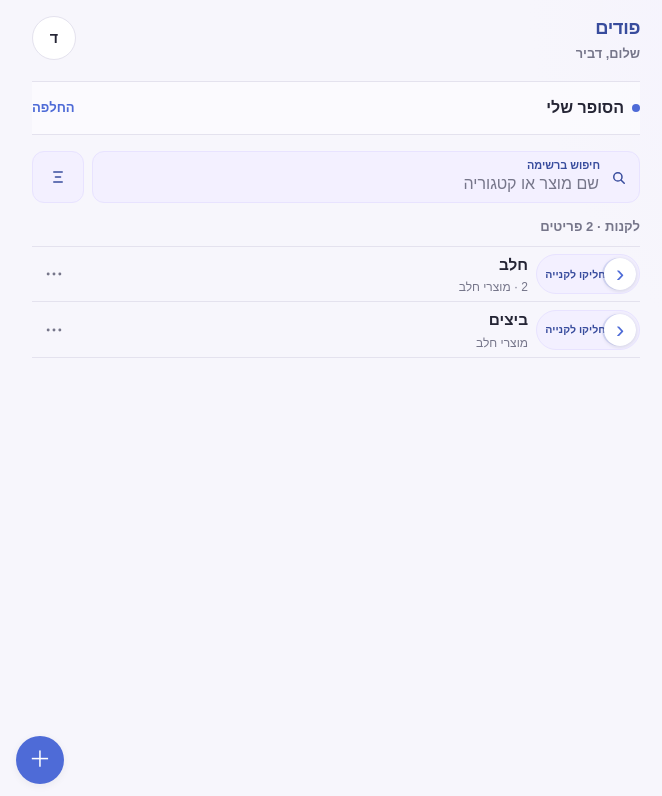
Test: shows a Hebrew error toast when restoring a completed item fails (finding #3)
This screenshot has width=662, height=796.
Click the button with aria-label "סמן את חלב כנקנה" at (588, 274), box [536,254,640,294]
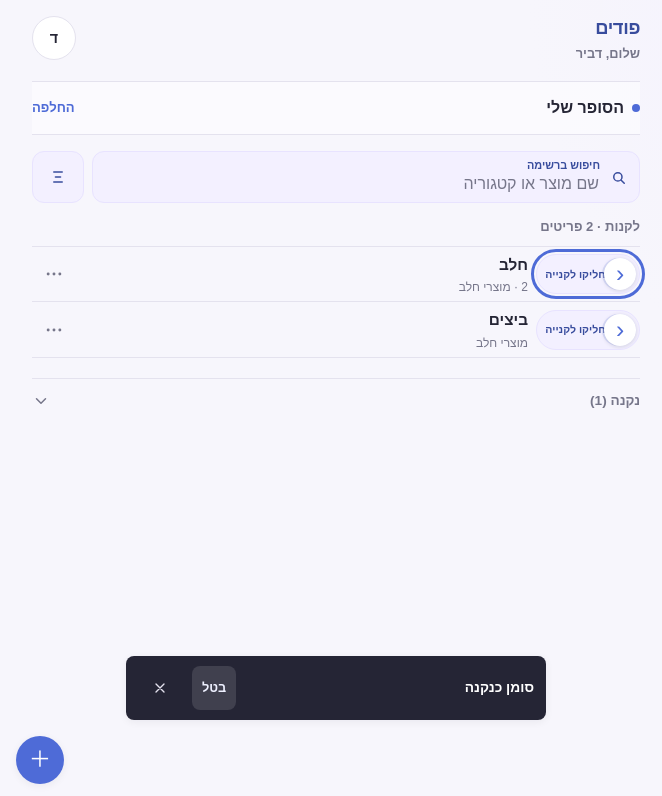
Expected: the text "סומן כנקנה" is shown, [465,680,534,695]
Click the button "נקנה (1)" at (621, 401), box [32,380,640,424]
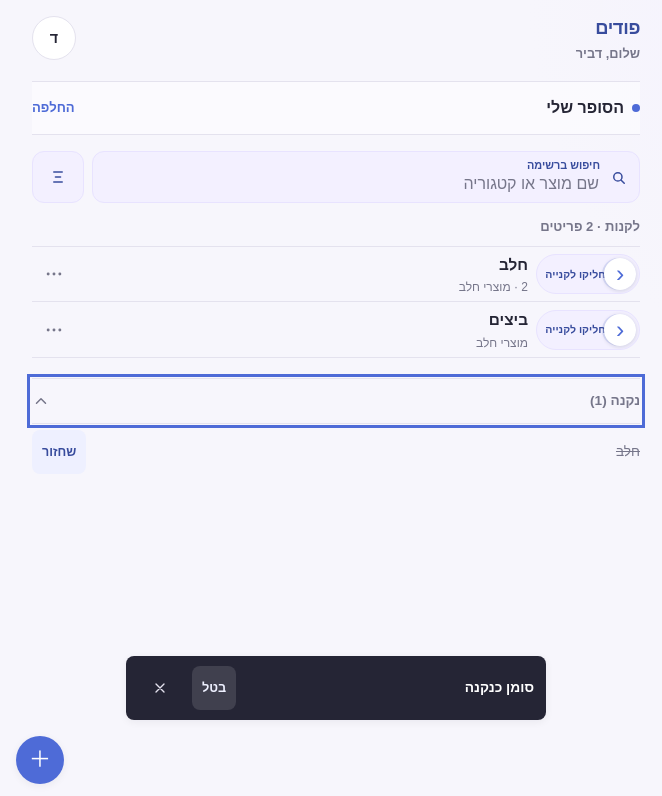
Click the button "שחזור" at (59, 452), box [32,430,86,474]
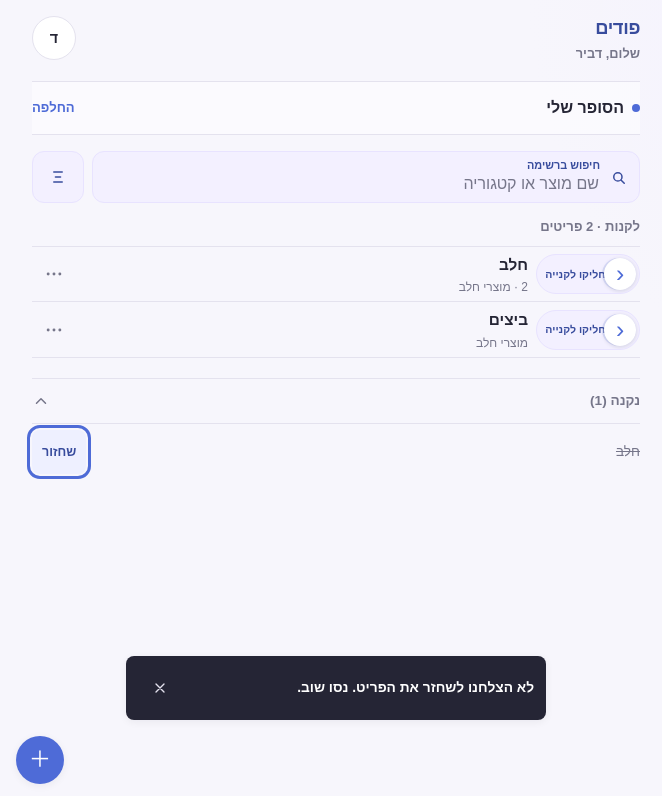
Expected: the text "לא הצלחנו לשחזר את הפריט. נסו שוב." is shown, [297,680,534,695]
